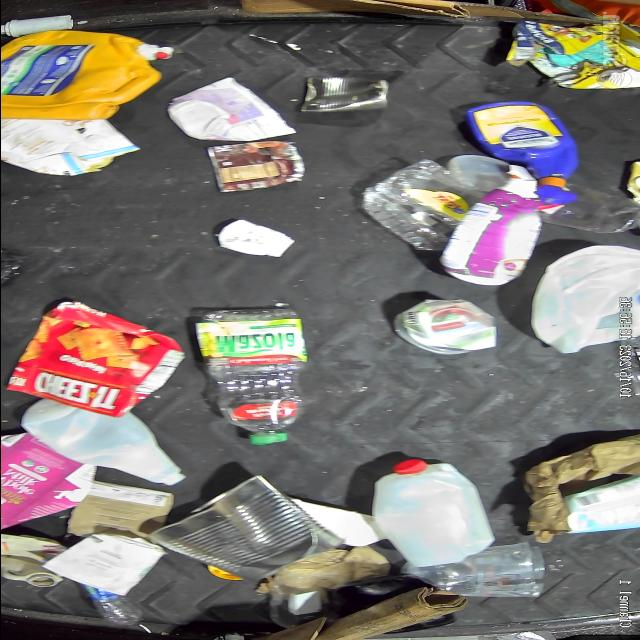can: (146, 475, 342, 579), (392, 298, 496, 354), (205, 140, 305, 192), (298, 76, 392, 112)
milk_jug: (19, 398, 185, 487), (370, 458, 496, 566), (530, 245, 640, 353), (0, 118, 140, 176), (0, 534, 67, 588)
non_white_jug: (0, 30, 173, 119), (440, 166, 551, 286), (465, 102, 581, 204), (0, 432, 98, 530)
plastic_bottle: (194, 307, 305, 444), (81, 583, 142, 626)
